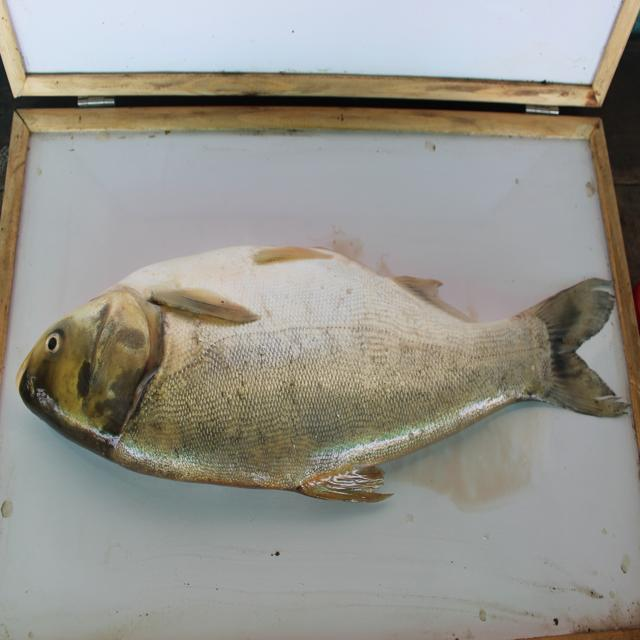SilverCarp: (6, 220, 635, 522)
